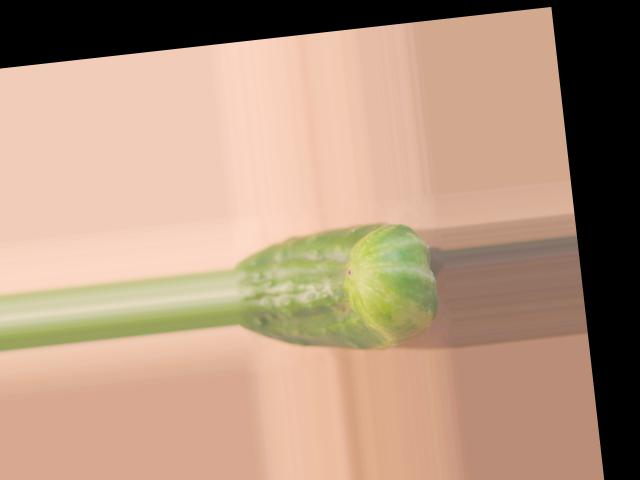cucumber: (229, 216, 441, 363)
